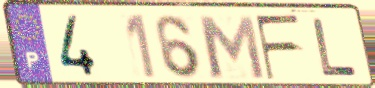1: (121, 12, 158, 82)
4: (57, 13, 100, 80)
6: (153, 13, 204, 81)
F: (253, 13, 303, 83)
L: (311, 17, 361, 79)
M: (194, 14, 268, 81)
